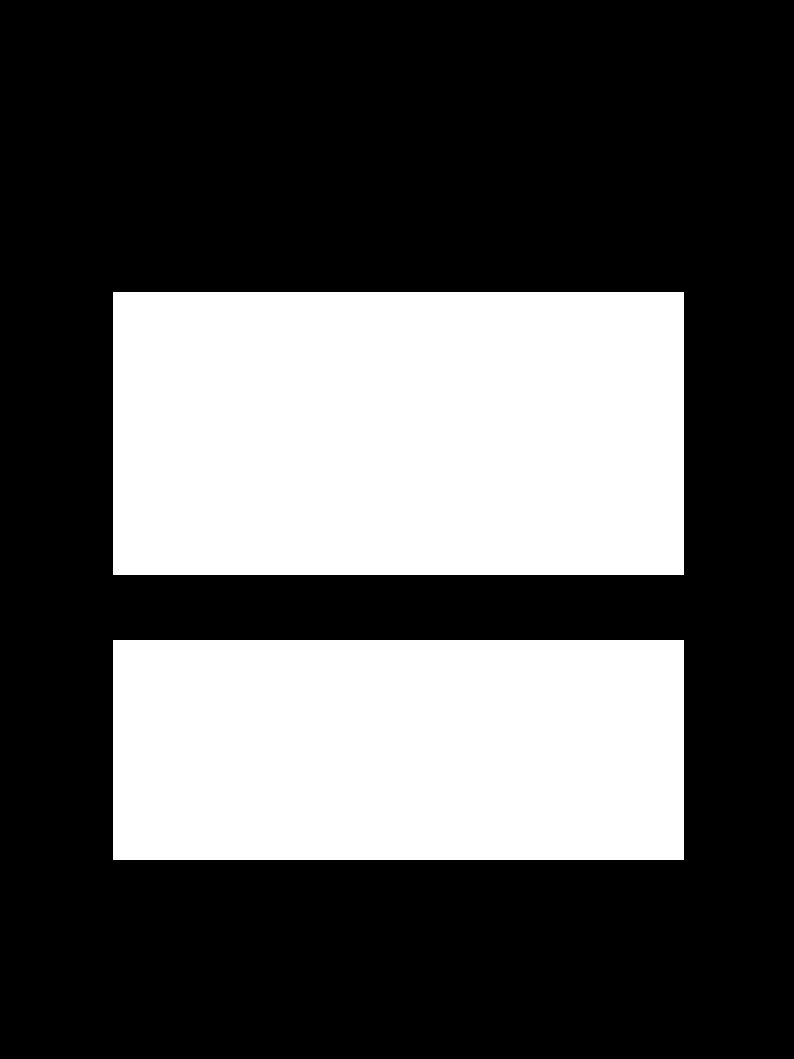table: (113, 292, 683, 574), (113, 640, 683, 859)
